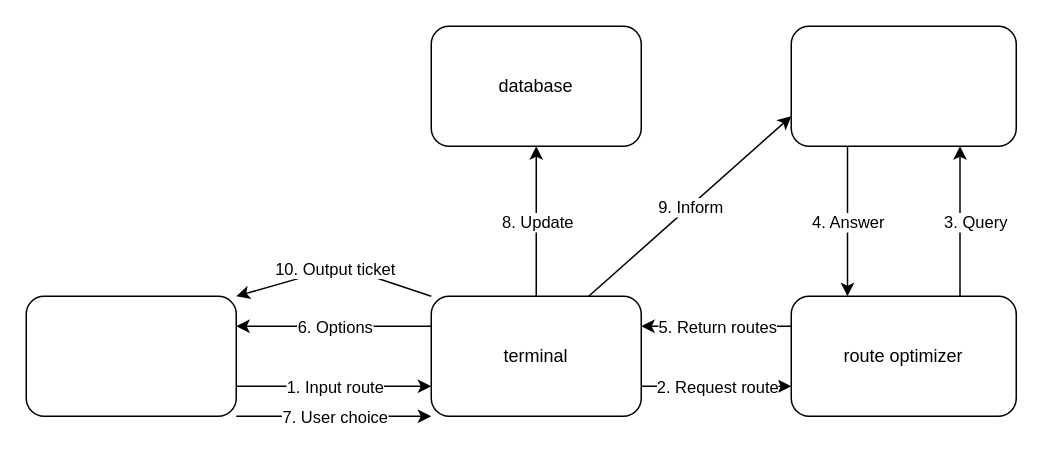
This 1043x455 diagram has some shape labels left out. The centre of each missing label's shape, as x and y in pixels:
"tycoon system" goes at pixel 903 85.
"user" goes at pixel 130 355.
